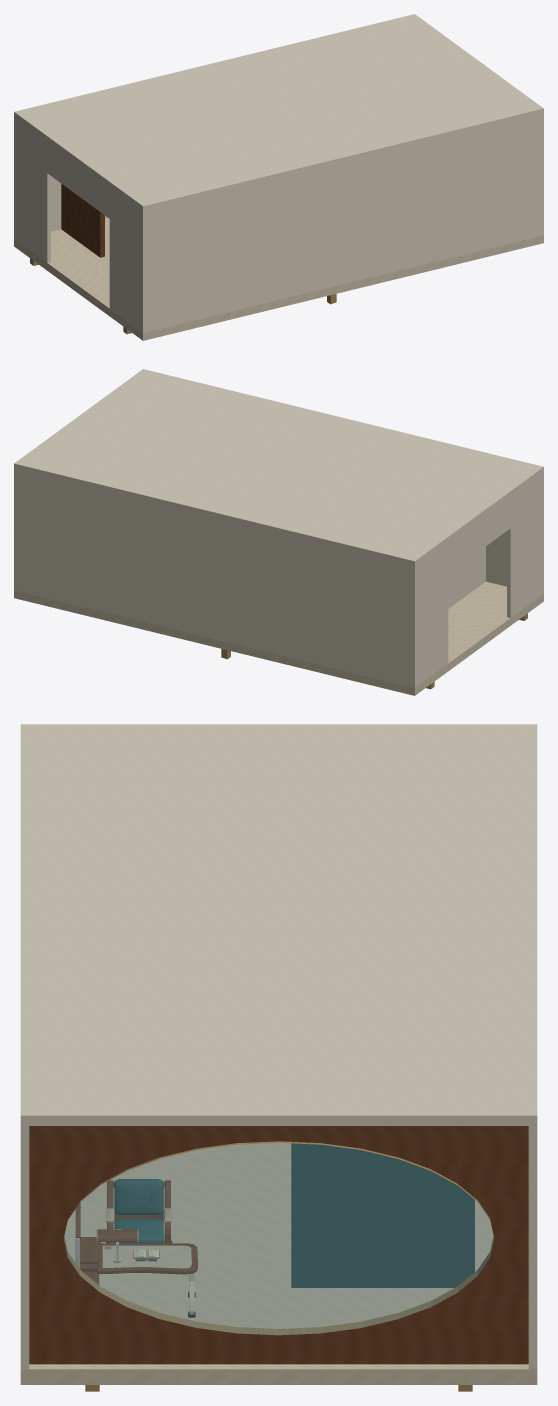
File: StarAtlasSpecialty_509_Production.glb
The picture shows the model from 3 angles, top to bottom: view 1: azimuth 30°, elevation 25°; view 2: azimuth 150°, elevation 25°; view 3: azimuth 270°, elevation 25°; orthographic projection. The views are drawn at different scales.
Visible parts, largest first — view 1: SA509_Ceiling, SA509_SouthSide, SA509_RoomFloor, SA509_EntryShoulderNorth, SA509_EntryShoulderSouth, SA509_EntryHeader, SA509_EntryPrivacyDogleg, SA509_NorthSide; view 2: SA509_Ceiling, SA509_NorthSide, SA509_RoomFloor, SA509_EntryShoulderSouth, SA509_EntryShoulderNorth, SA509_EntryHeader, SA509_WashEntrySide, SA509_SouthSide; view 3: SA509_Ceiling, SA509_OvalAtriumGlass, SA509_OvalWindowReveal, SA509_RoomFloor, SA509_Cocoon01_RearLiner, SA509_OvalDepthReturn, SA509_NorthSide, SA509_SouthSide, SA509_DayReadingChair__DAY_CHAIR_single_reclined_back_cushio, SA509_LibraryStudyEdge__SINGLE_inset_stone_writing_surface, SA509_LibraryStudyEdge__SINGLE_carved_walnut_writing_edge, SA509_DayReadingChair__DAY_CHAIR_single_crowned_seat.
Part boxes in pixels (x1,y1,x2,y2): SA509_Ceiling: [14, 14, 543, 211]; SA509_SouthSide: [141, 114, 543, 332]; SA509_RoomFloor: [14, 218, 543, 340]; SA509_EntryShoulderNorth: [16, 119, 50, 262]; SA509_EntryShoulderSouth: [109, 187, 140, 331]; SA509_EntryHeader: [46, 141, 110, 218]; SA509_EntryPrivacyDogleg: [61, 184, 104, 257]; SA509_NorthSide: [14, 117, 107, 239]; SA509_Ceiling: [14, 369, 543, 566]; SA509_NorthSide: [14, 469, 416, 687]; SA509_RoomFloor: [14, 581, 543, 695]; SA509_EntryShoulderSouth: [507, 474, 541, 617]; SA509_EntryShoulderNorth: [417, 542, 448, 686]; SA509_EntryHeader: [447, 496, 511, 573]; SA509_WashEntrySide: [448, 546, 485, 608]; SA509_SouthSide: [486, 472, 543, 594]; SA509_Ceiling: [20, 724, 537, 1125]; SA509_OvalAtriumGlass: [64, 1143, 493, 1334]; SA509_OvalWindowReveal: [29, 1126, 528, 1364]; SA509_RoomFloor: [20, 1143, 537, 1384]; SA509_Cocoon01_RearLiner: [295, 1143, 470, 1287]; SA509_OvalDepthReturn: [63, 1141, 494, 1335]; SA509_NorthSide: [528, 1126, 537, 1369]; SA509_SouthSide: [20, 1126, 29, 1369]; SA509_DayReadingChair__DAY_CHAIR_single_reclined_back_cushio: [113, 1179, 164, 1214]; SA509_LibraryStudyEdge__SINGLE_inset_stone_writing_surface: [102, 1245, 191, 1268]; SA509_LibraryStudyEdge__SINGLE_carved_walnut_writing_edge: [97, 1243, 197, 1274]; SA509_DayReadingChair__DAY_CHAIR_single_crowned_seat: [114, 1219, 164, 1243].
Size of the model in its own units: 12.9 by 4.91 by 7.2.
58 materials, 43 textured.
